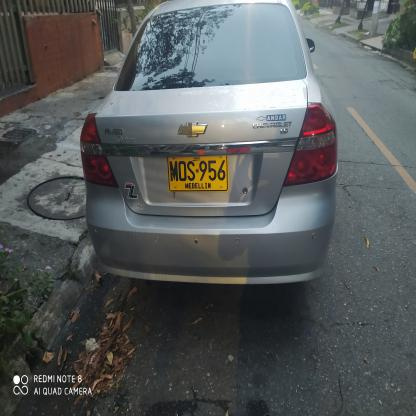placa: (163, 150, 233, 195)
